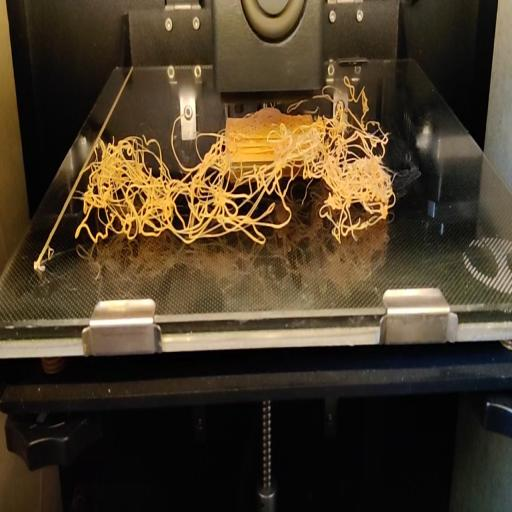spaghetti: (75, 96, 398, 250), (342, 72, 366, 96)
